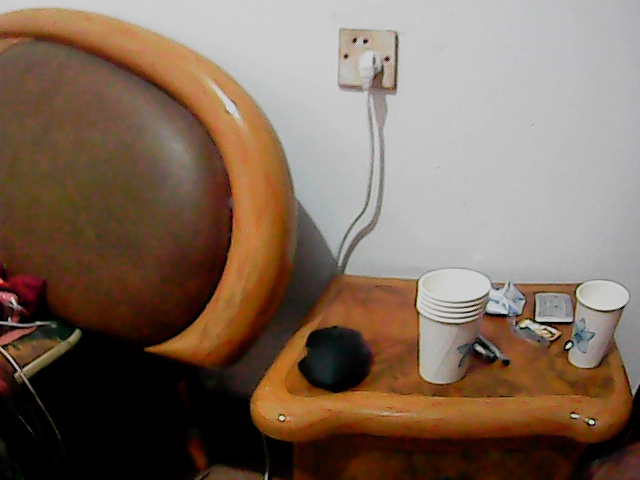cup: (415, 266, 487, 387)
mouse: (295, 322, 371, 393)
